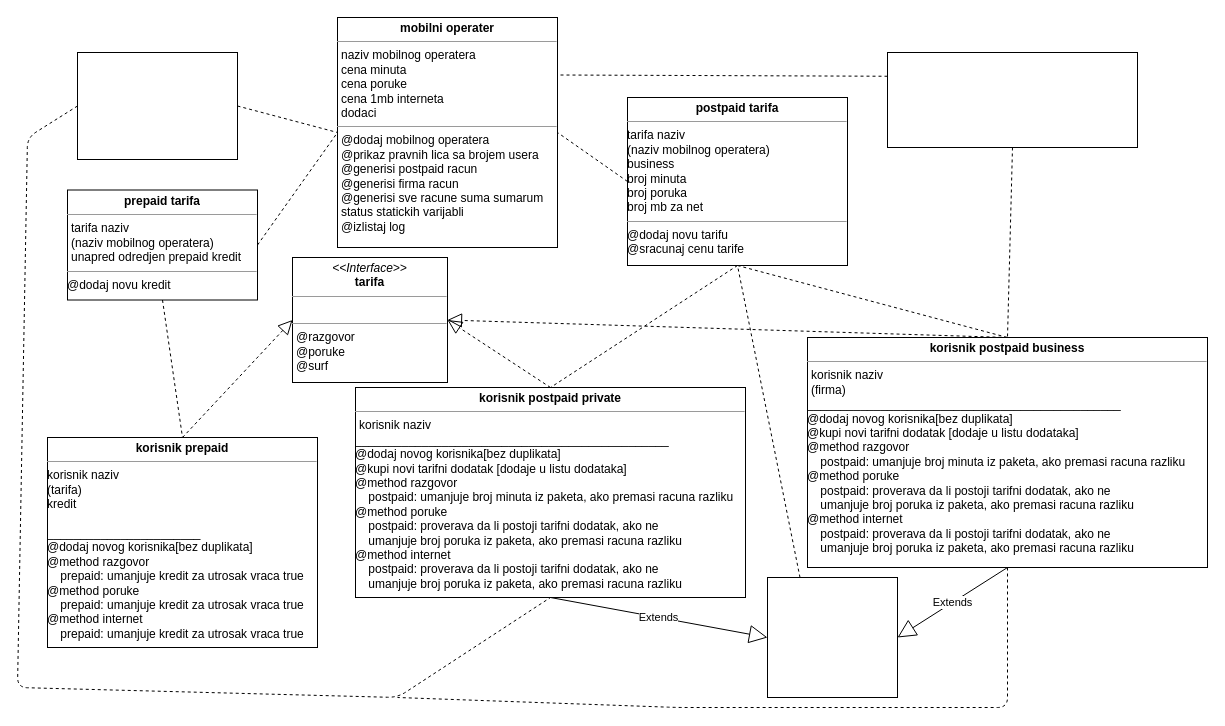
Some shapes in this 1225 by 726 pixel diagram are drawn without their labels. The box of each missing label's shape, as (x1, y1, x2, y2) in pixels:
abstract korisnik minuta (tarifa) poruka mb surf dodaci stanje: (766, 576, 898, 698)
firma naziv firme (mobilni operater) @dodaj korisnika [bez duplikata]: (886, 52, 1138, 148)
tarifni dodaci naziv (mobilni Operater) cena @dodaj: (76, 52, 238, 160)
